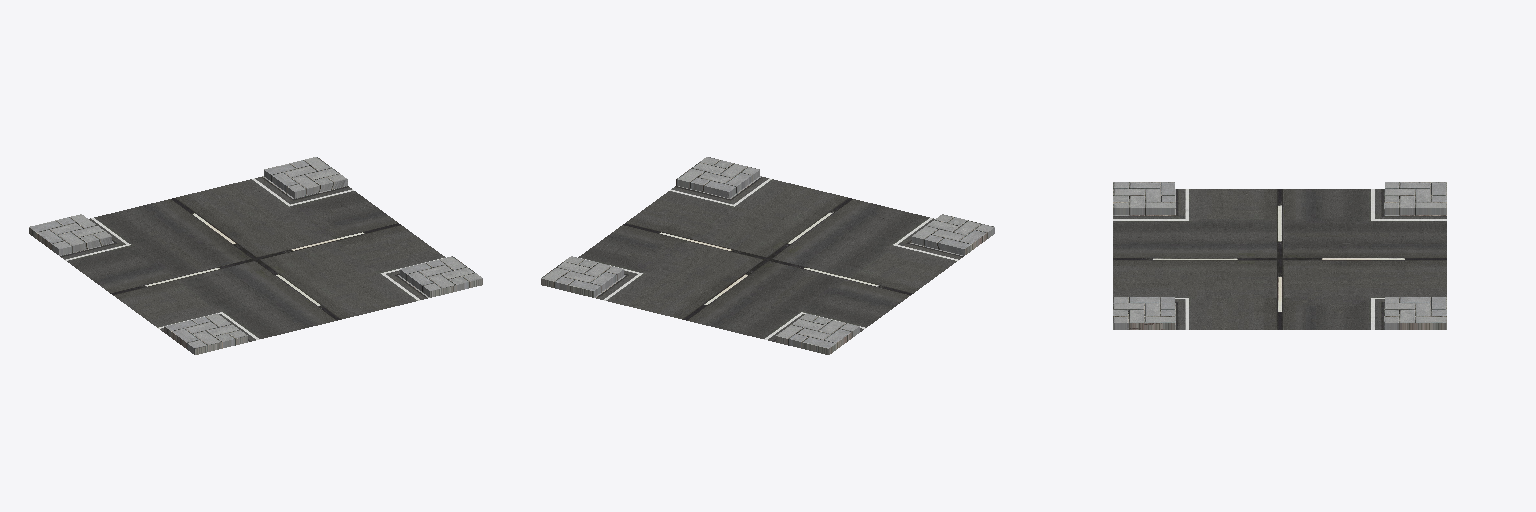
3 views of the same model, side by side, from view 1: azimuth 30°, elevation 25°; view 2: azimuth 150°, elevation 25°; view 3: azimuth 270°, elevation 25° (orthographic).
Visible parts, largest first — view 1: Plane01; view 2: Plane01; view 3: Plane01.
Part boxes in pixels (x1,y1,x2,y2): Plane01: (29,157,482,354); Plane01: (541,157,994,354); Plane01: (1113,182,1446,329).
Size of the model in its own units: 1024 by 22.13 by 1024.
Materials: 1 (1 with a texture image).